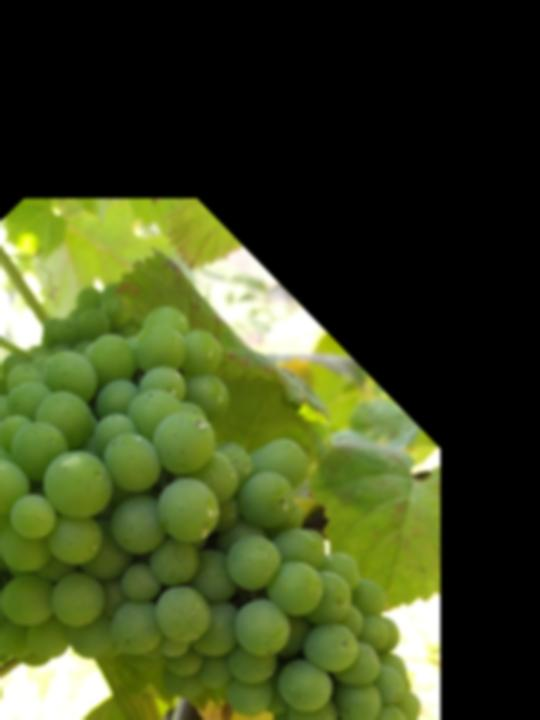grape: (0, 252, 517, 720)
